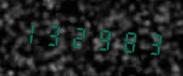eight: (114, 22, 137, 59)
nine: (90, 19, 113, 57)
one: (17, 13, 40, 51)
three: (41, 15, 64, 53), (138, 24, 161, 62)
two: (66, 17, 89, 55)
